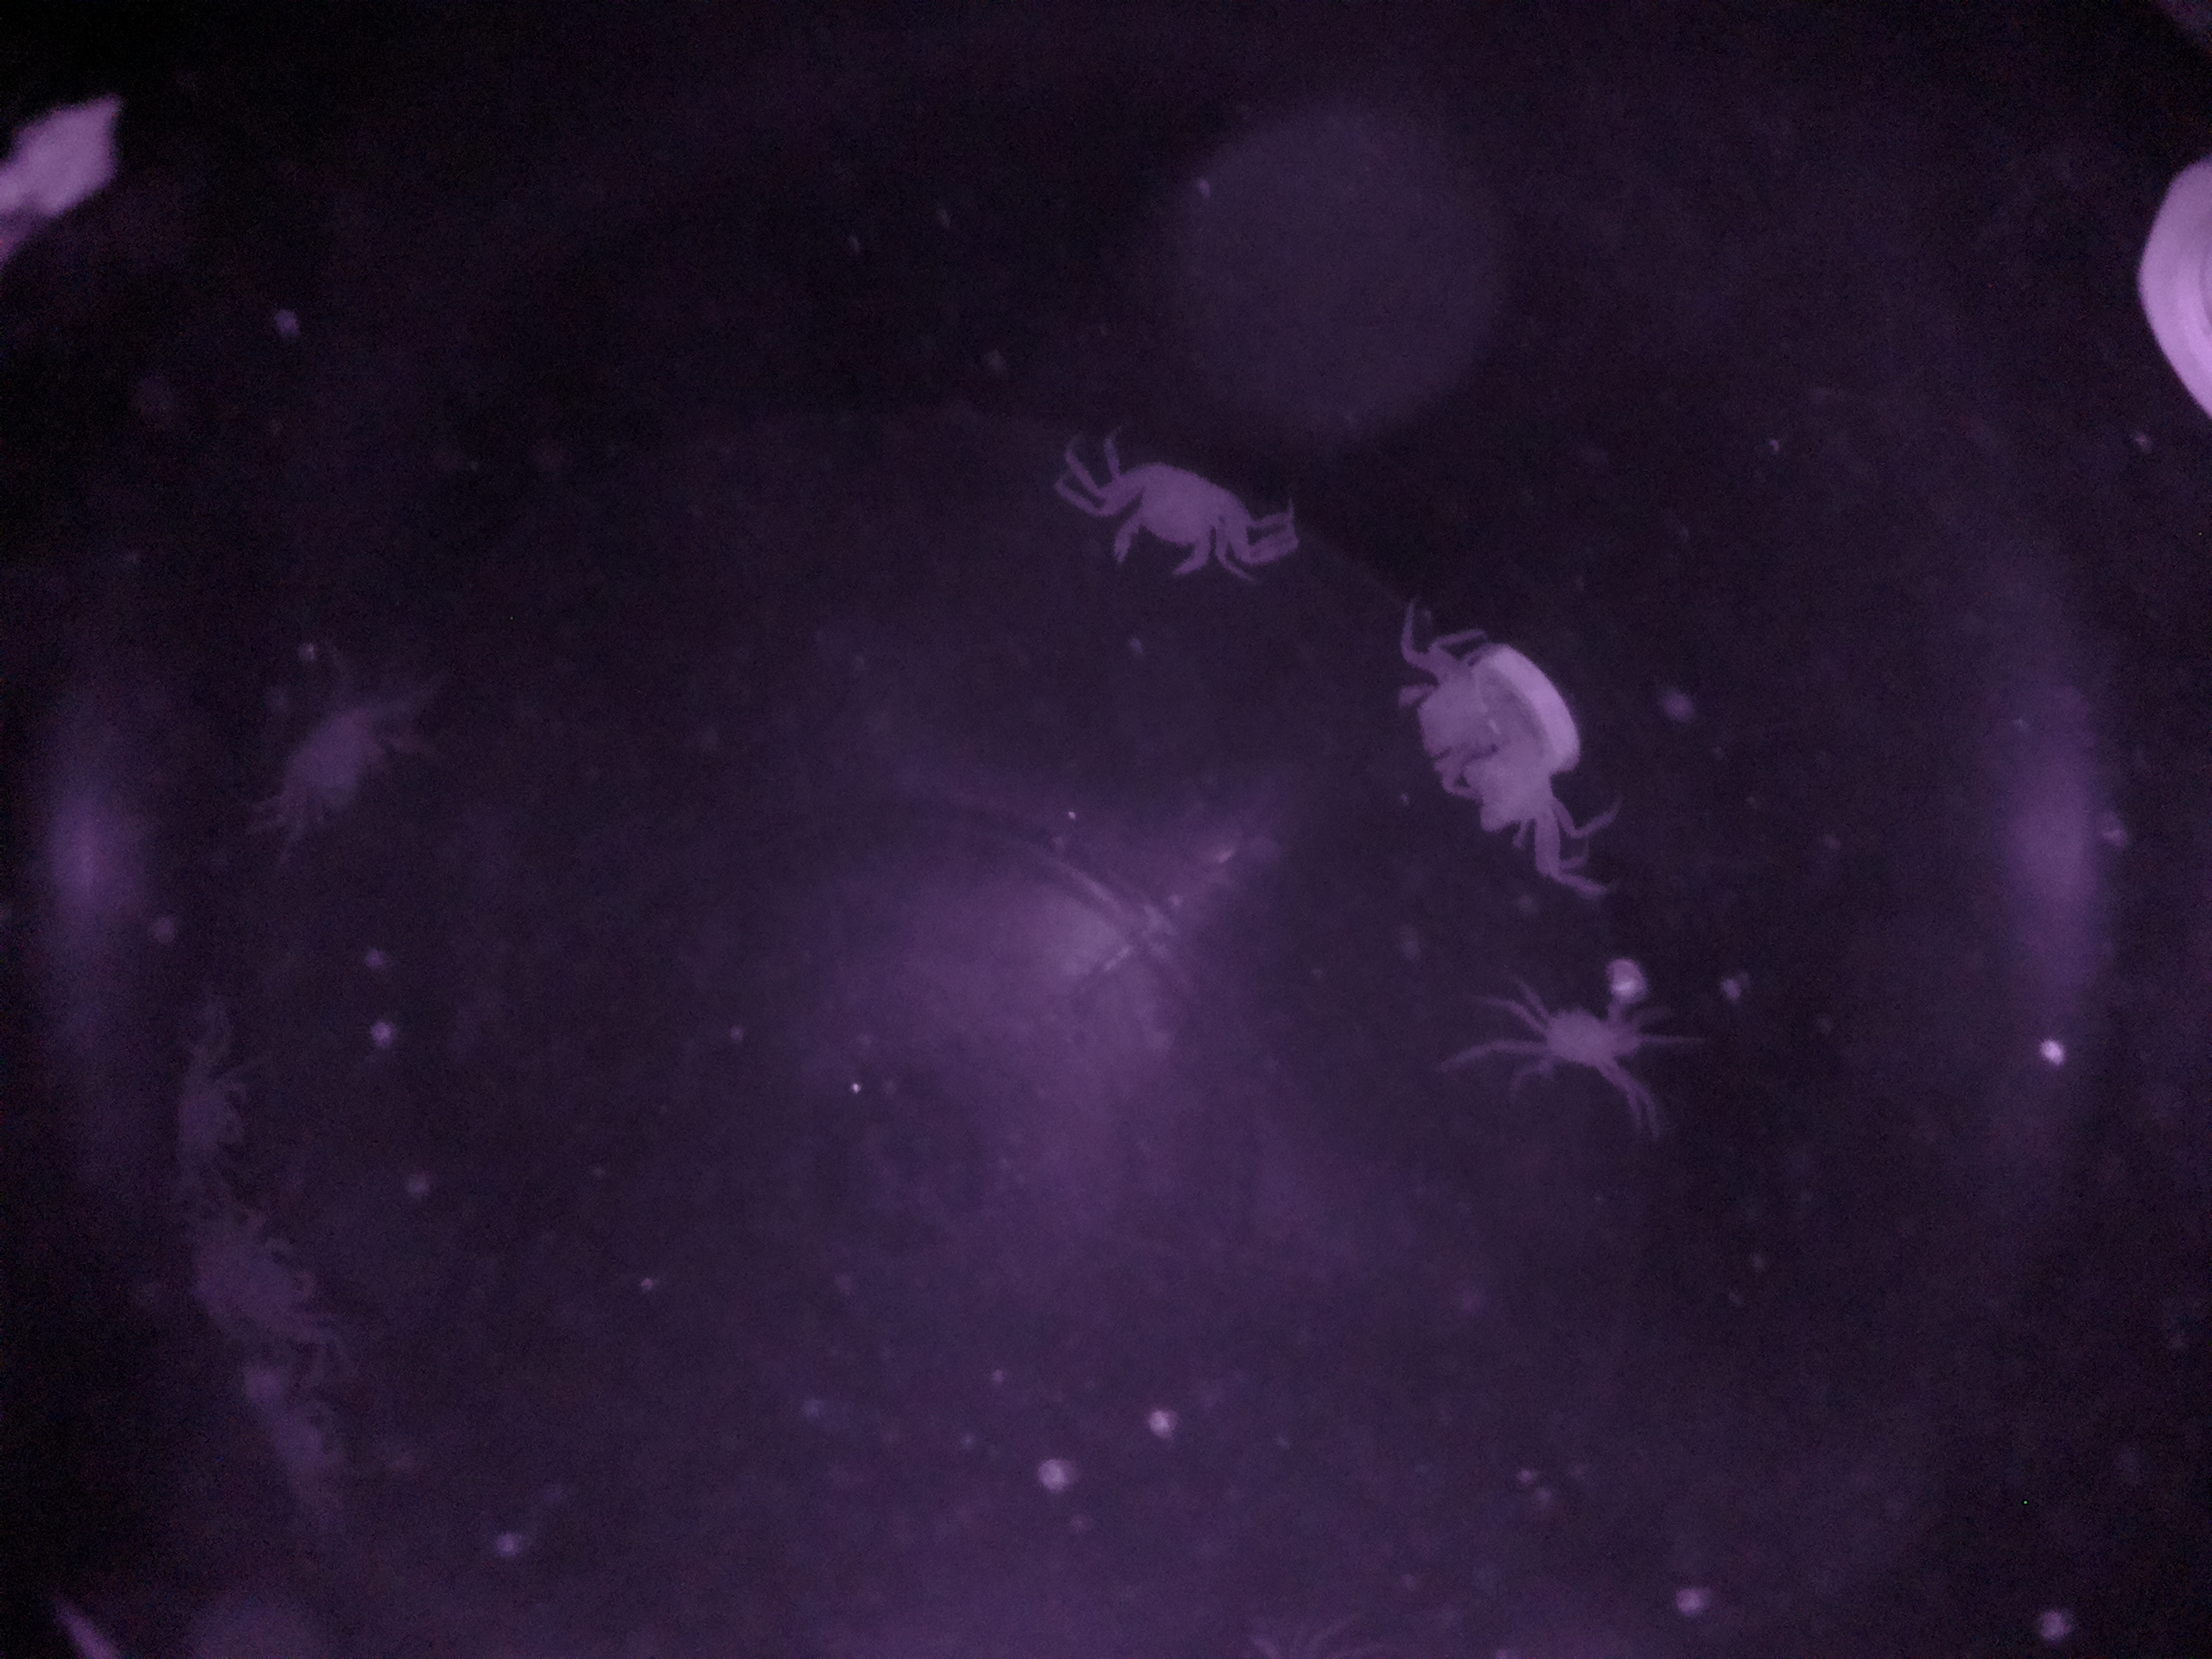Crab: (1061, 432, 1284, 605), (1477, 945, 1670, 1110)
